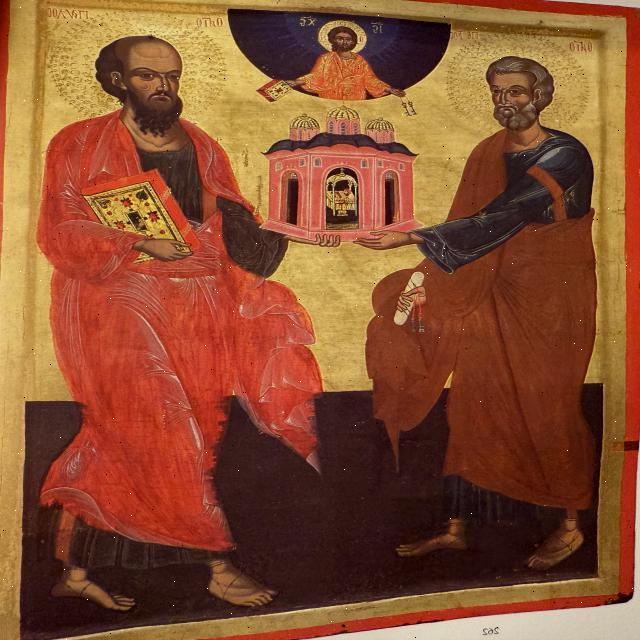aura: (53, 15, 223, 121), (446, 32, 594, 132), (317, 22, 369, 55)
book: (82, 166, 200, 278), (258, 76, 293, 104)
christ_pantocrator: (228, 12, 454, 112)
saint: (344, 35, 594, 577), (39, 11, 257, 609)
scroll: (375, 259, 439, 330)
